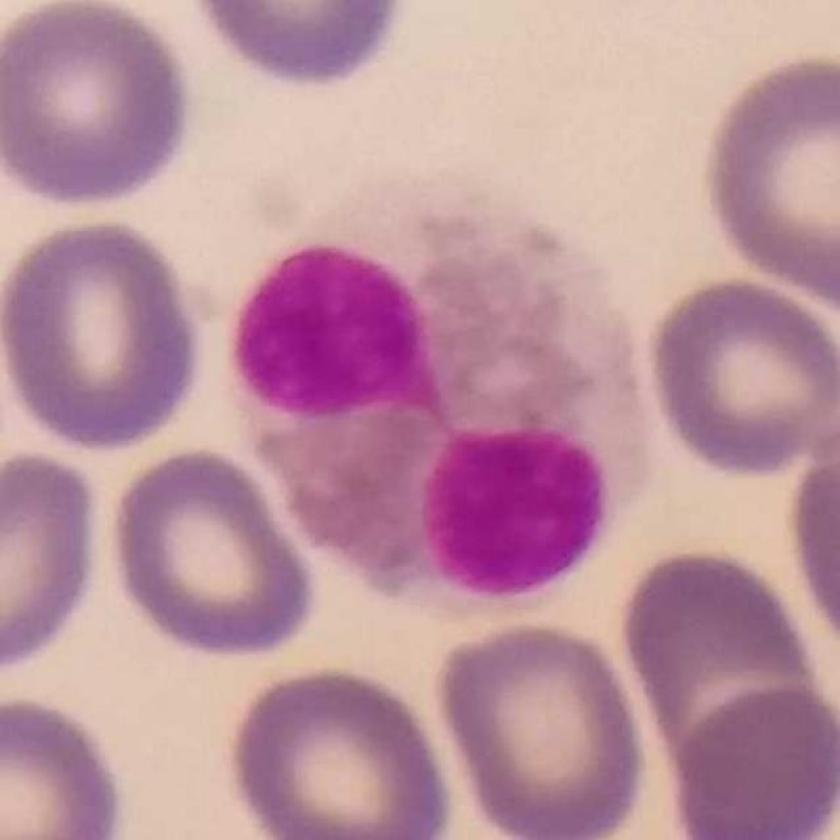eosinophil: (231, 188, 670, 621)
